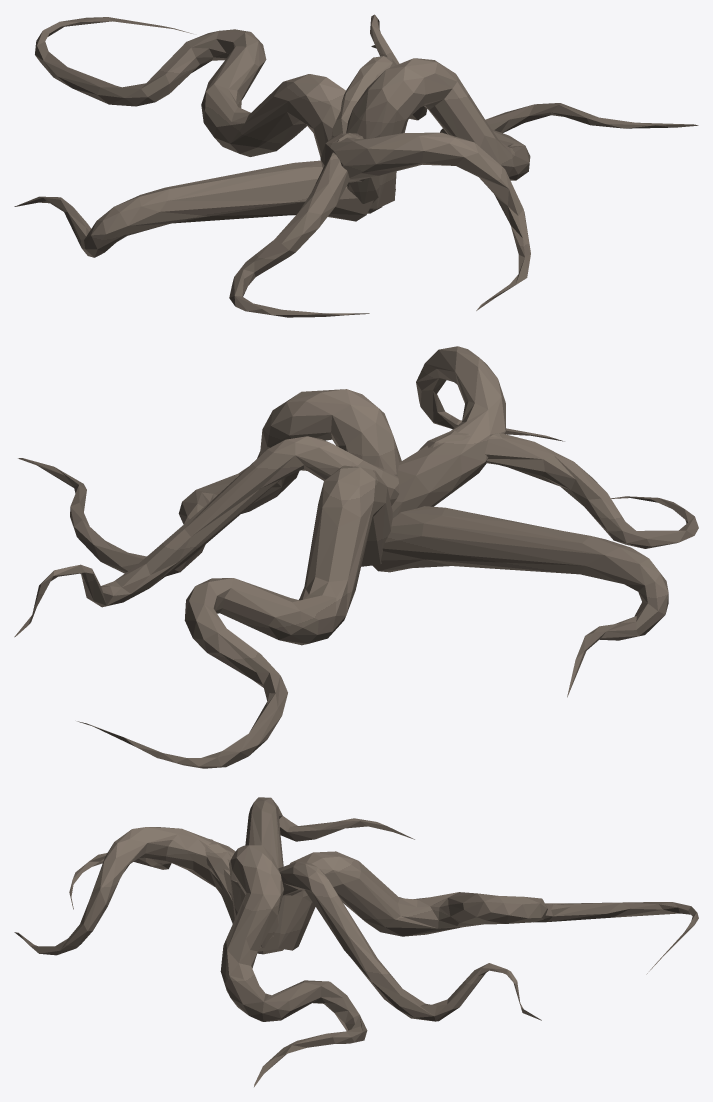
The model's file is Prefab_Generic_Base_Roots_A.glb.
3 renders of one model, top to bottom at view 1: azimuth 30°, elevation 25°; view 2: azimuth 150°, elevation 25°; view 3: azimuth 270°, elevation 25°, orthographic. The views are drawn at different scales.
Visible parts, largest first — view 1: BezierCurve.009; view 2: BezierCurve.009; view 3: BezierCurve.009.
Part boxes in pixels (box(x1,y1,x2,y2)): BezierCurve.009: box(14, 14, 698, 317); BezierCurve.009: box(14, 346, 698, 768); BezierCurve.009: box(14, 797, 698, 1086).
Bounding box in the file's own units: 7.85 × 1.95 × 8.88.
Materials: 1 (1 with a texture image).
